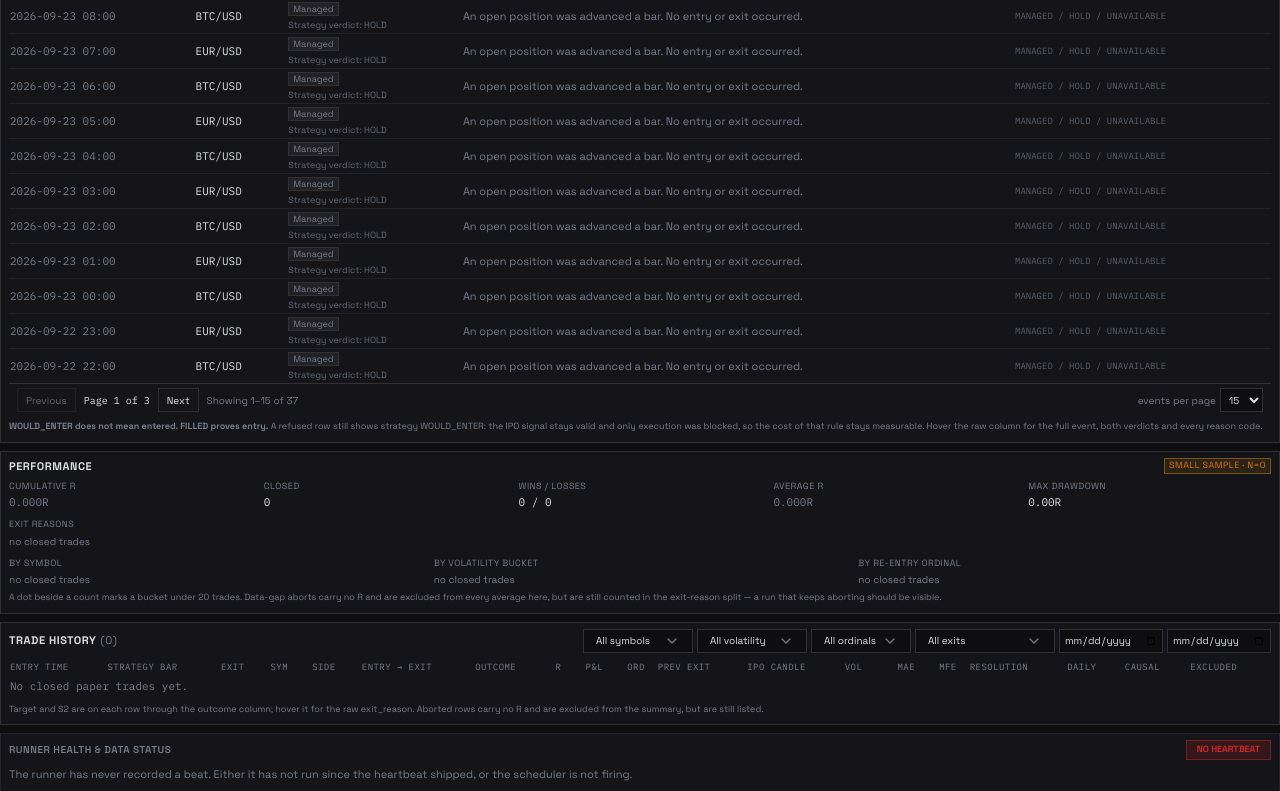
Scenario: Why no trade? pagination › offers its own page sizes
(page scrolled)
Select "60" in the dropdown labelled "events per page". click: (1242, 400)
box: [1220,388,1263,412]
(page scrolled)
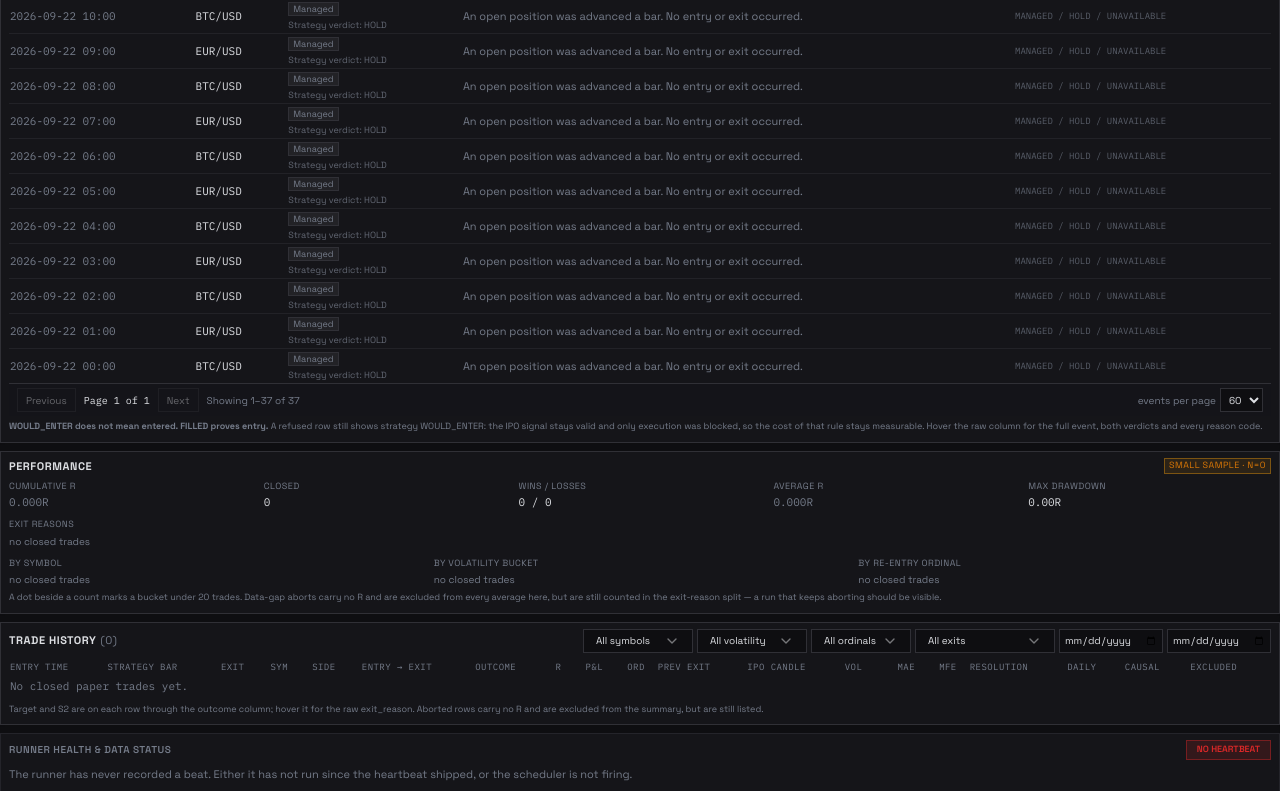
Result: the text "Page 1 of 1" is shown at [84,393,150,408]
